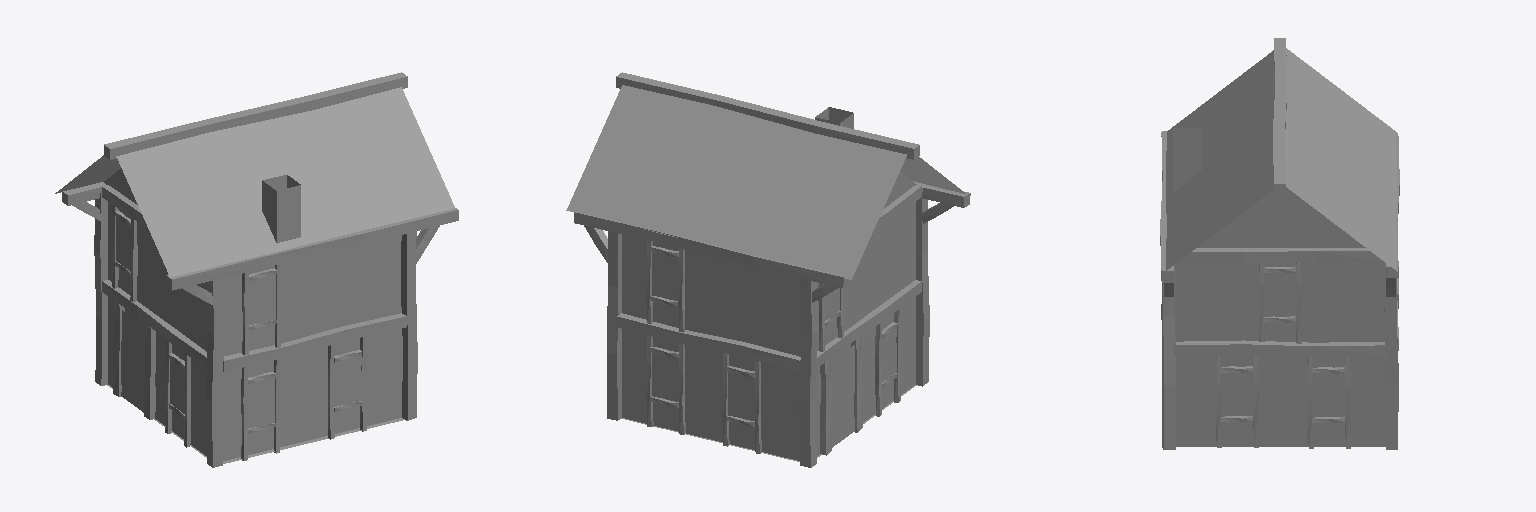
Rendered from House.obj.
3 renders of one model, left to right at view 1: azimuth 30°, elevation 25°; view 2: azimuth 150°, elevation 25°; view 3: azimuth 270°, elevation 25°, orthographic.
Visible parts, largest first — view 1: House_Plane.007; view 2: House_Plane.007; view 3: House_Plane.007.
Part boxes in pixels (left/top/right/bottom): House_Plane.007: left=55, top=72, right=458, bottom=467; House_Plane.007: left=566, top=72, right=970, bottom=467; House_Plane.007: left=1160, top=38, right=1399, bottom=449.
Bounding box in the file's own units: 13.5 × 12.61 × 9.4.